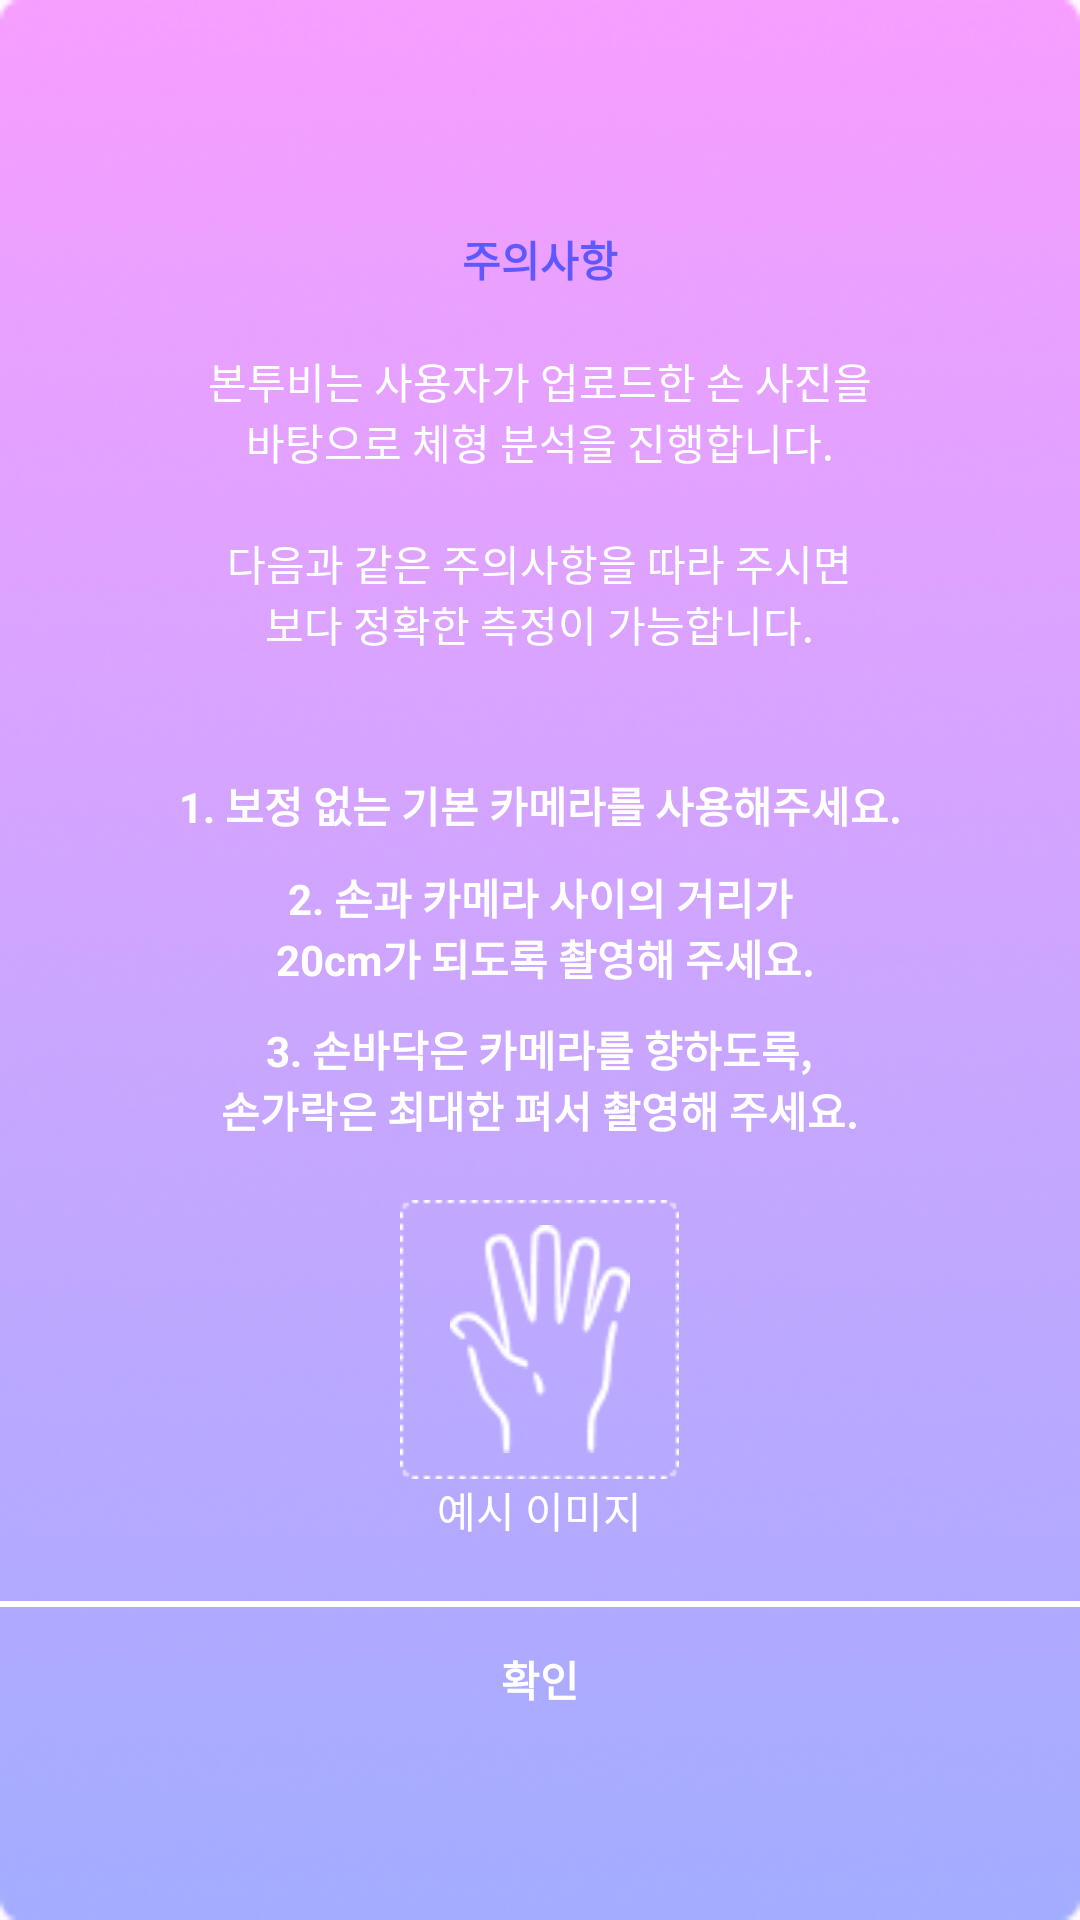

Screen size 1080x1920. Icon name, then its box in pixels as (x1, y1, x2, y2):
caution hand: (400, 1225, 679, 1453)
